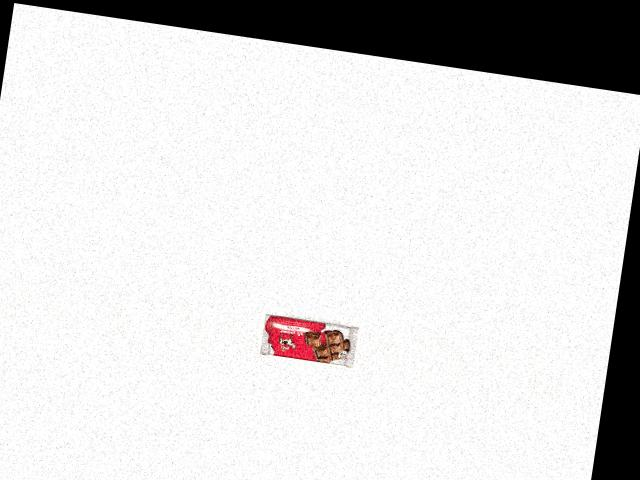chocolate: (245, 289, 363, 362)
